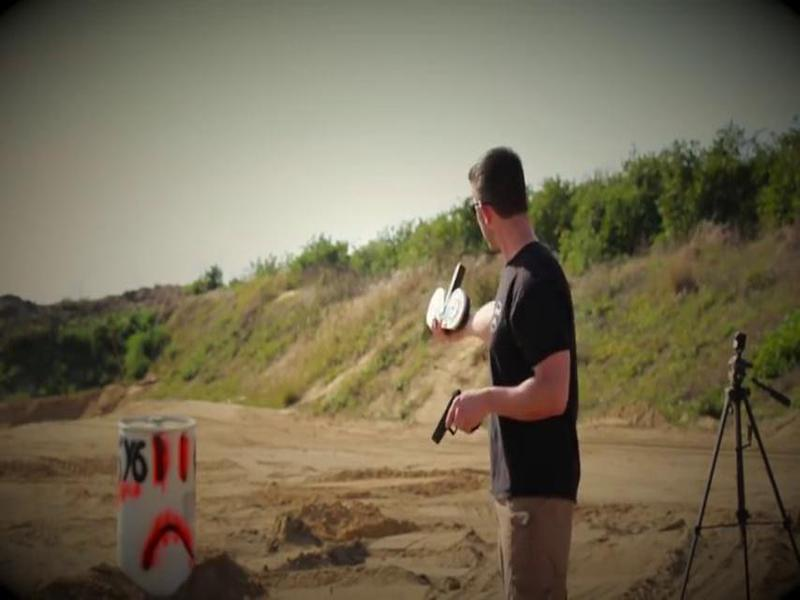Pistola: (421, 384, 489, 452)
